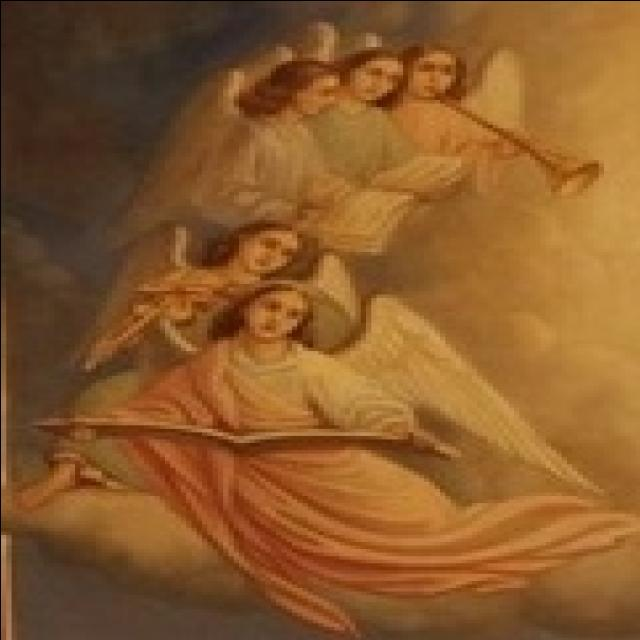angel: (56, 281, 492, 593), (362, 37, 634, 204)
